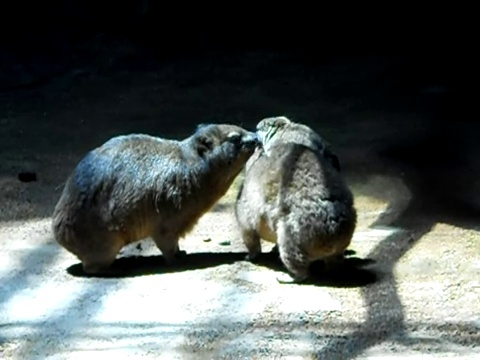Rock Hyrex: (51, 121, 264, 281), (234, 116, 360, 284)
